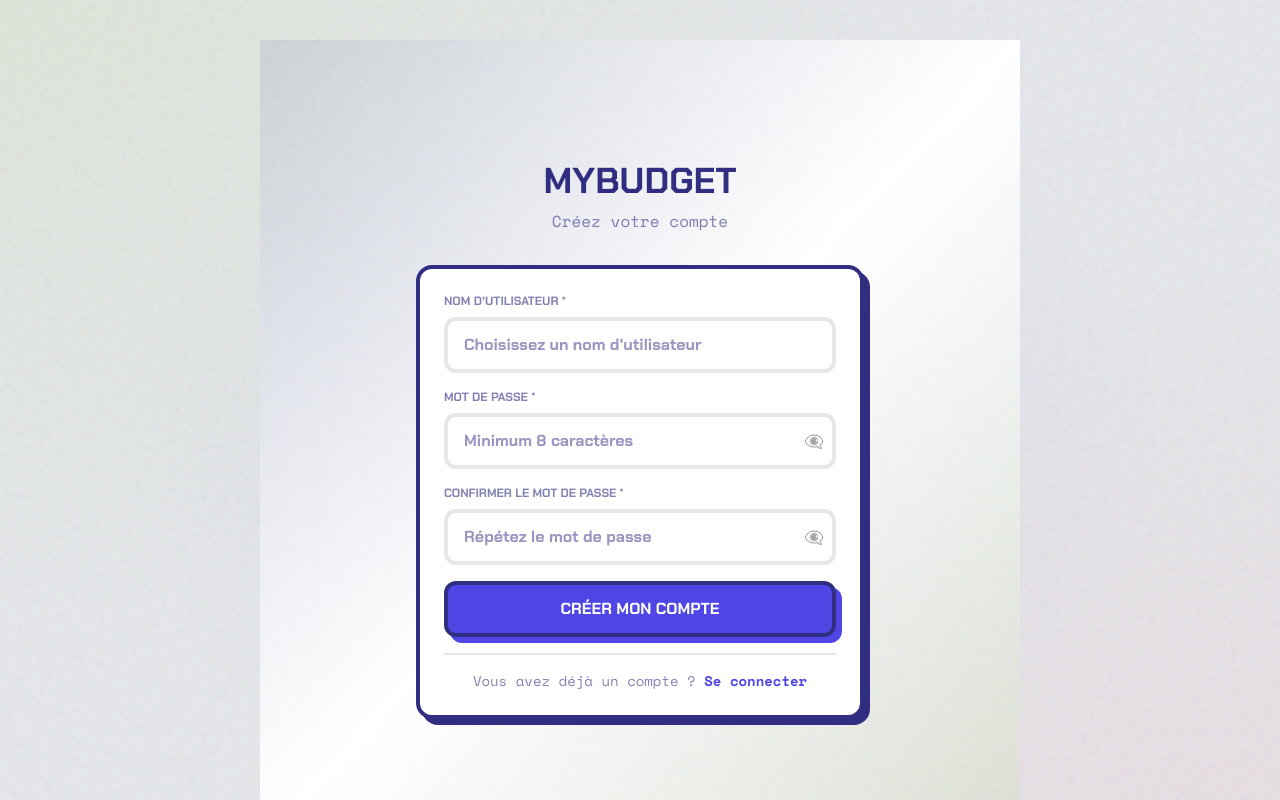
Scenario: US01 - Inscription › Validation client: le nom d'utilisateur est requis (minimum 3 caractères)
Step 1. Type "Password123!" into the password field with placeholder "Minimum 8 caractères" → (640, 441), box [444,413,836,469]
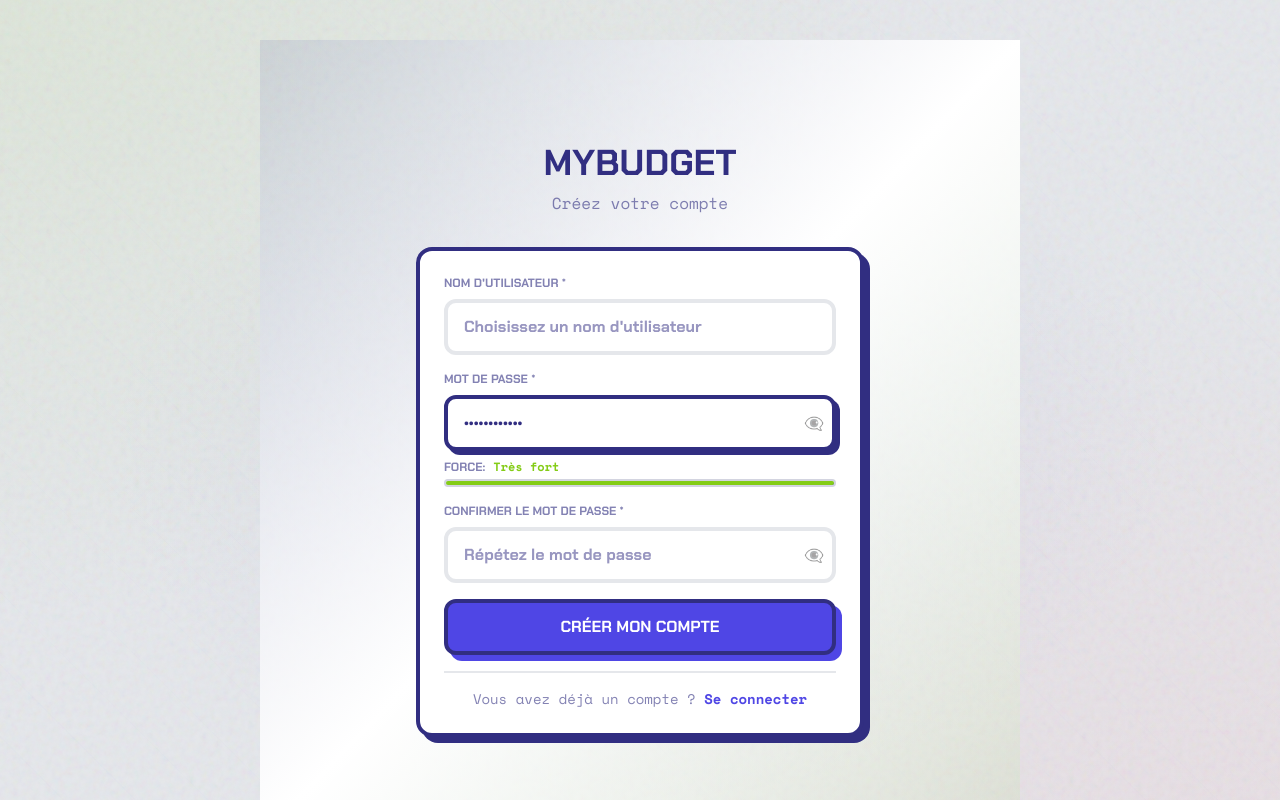
Step 2. Type "Password123!" into the password field with placeholder "Répétez le mot de passe" → (640, 555), box [444,527,836,583]
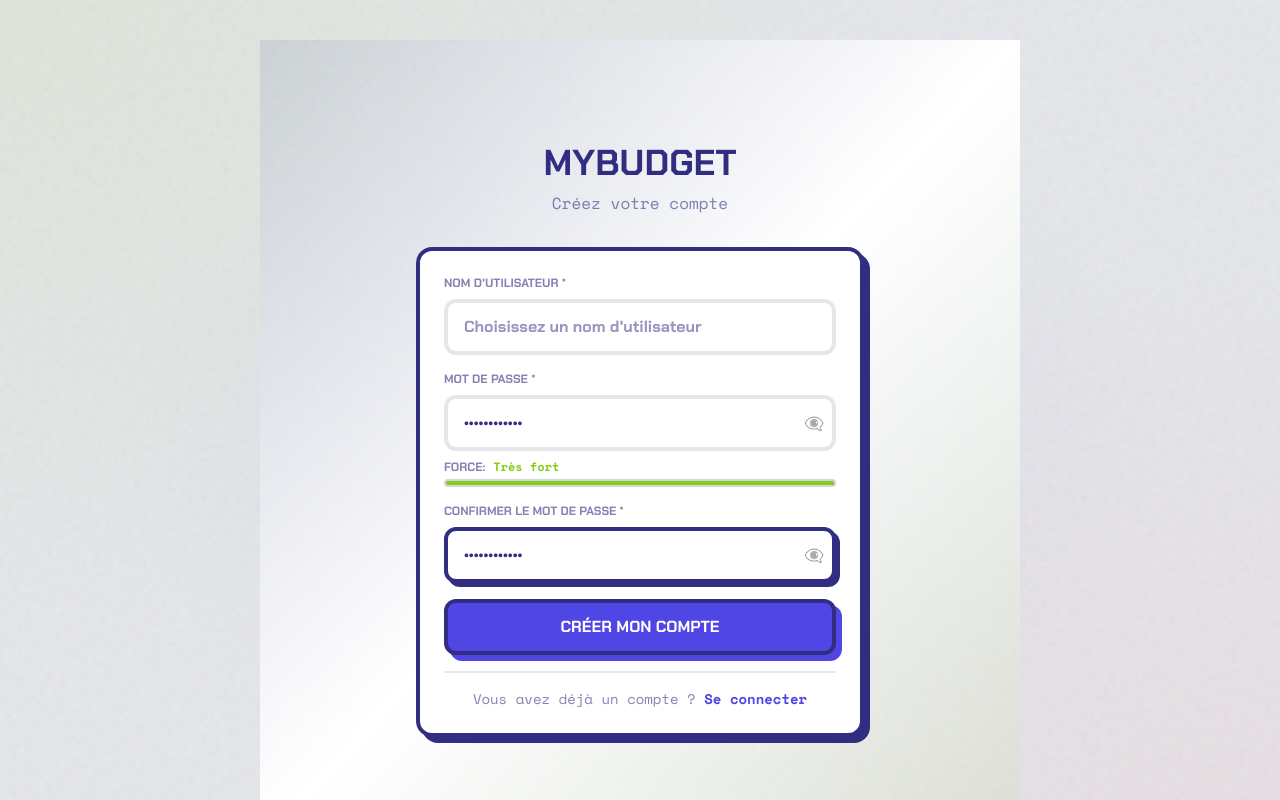
Step 3. Click the button "Créer mon compte" → click(640, 627), box [444,599,836,655]
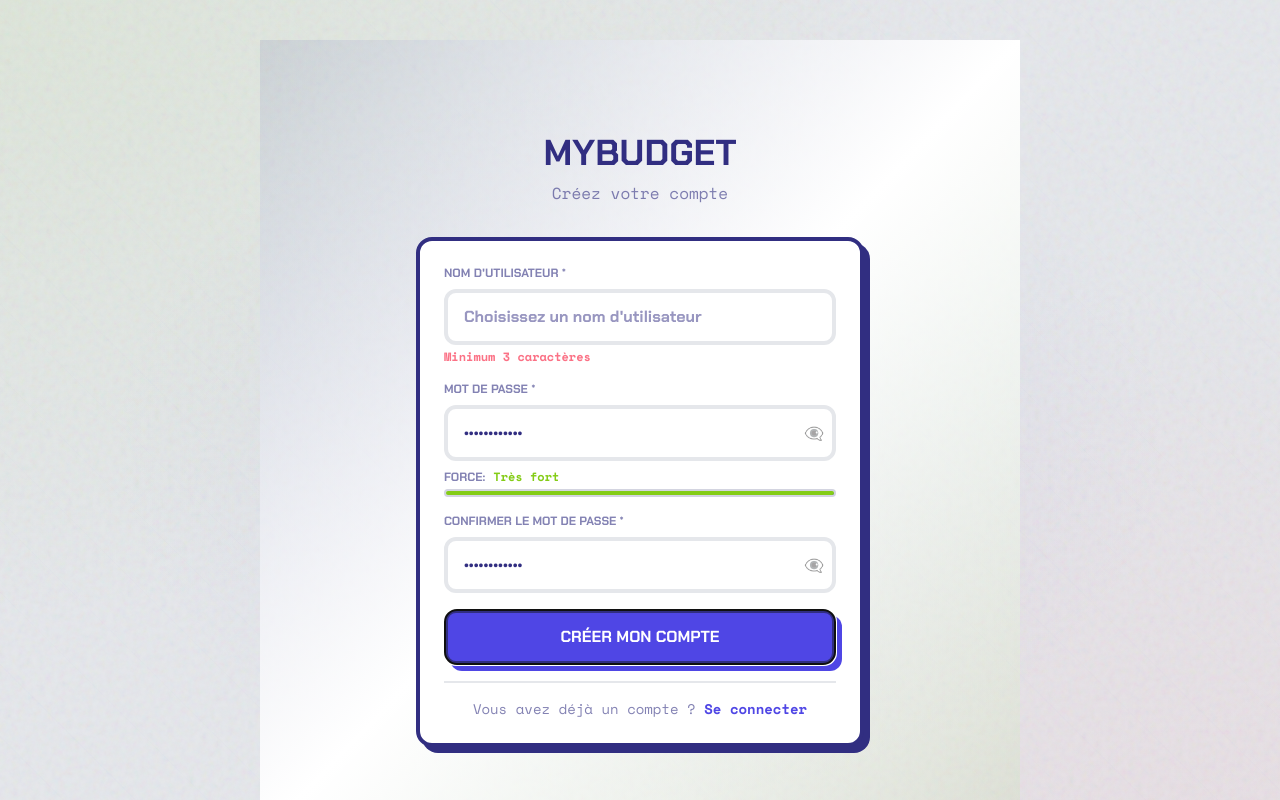
Expected: the text "Minimum 3 caractères" is shown, [444,348,591,365]
